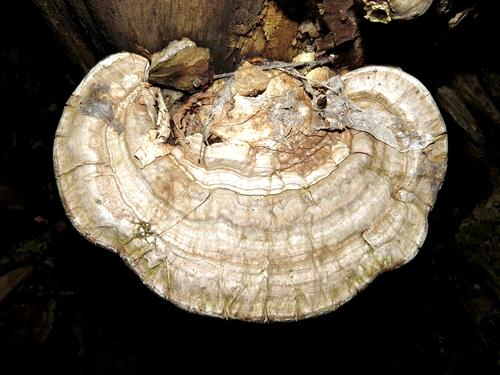Ganoderma - Fruit Body: (52, 44, 450, 325)
